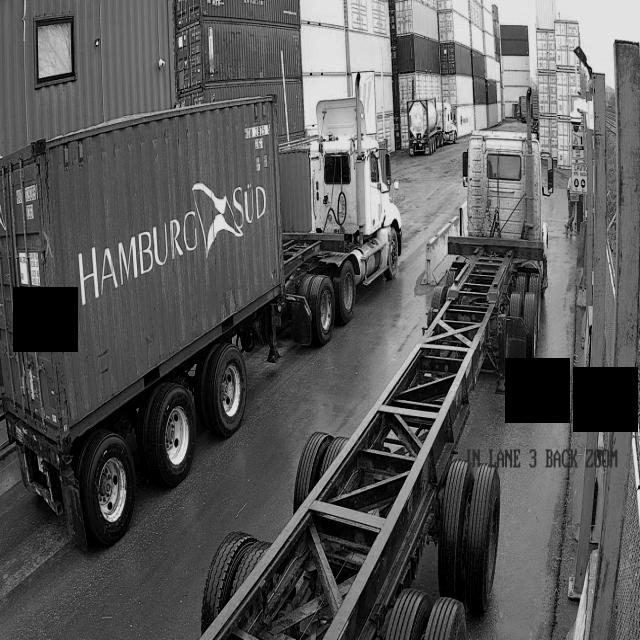container_company_logo: (68, 171, 270, 294)
truck_with_container: (0, 85, 402, 548)
truck_without_container: (199, 122, 554, 640)
